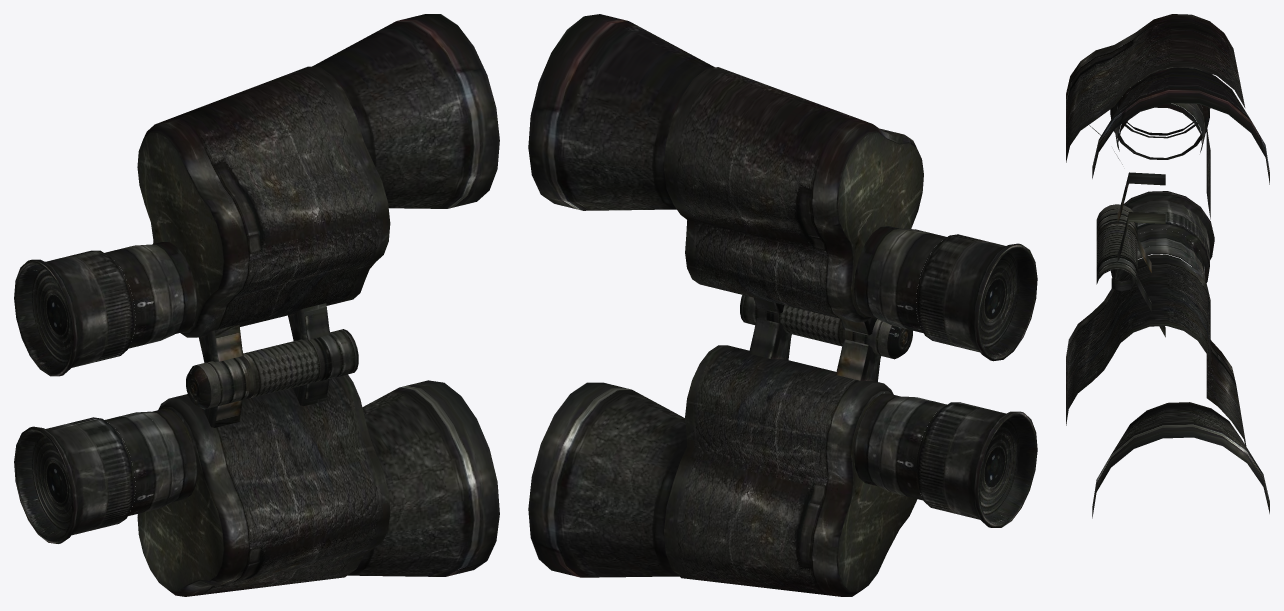
The model's file is viewmodel_binoculars.glb.
3 views of the same model, side by side, from view 1: azimuth 30°, elevation 25°; view 2: azimuth 150°, elevation 25°; view 3: azimuth 270°, elevation 25° (orthographic). The views are drawn at different scales.
Size of the model in its own units: 8.1 by 10.02 by 3.75.
Materials: 1 (1 with a texture image).
